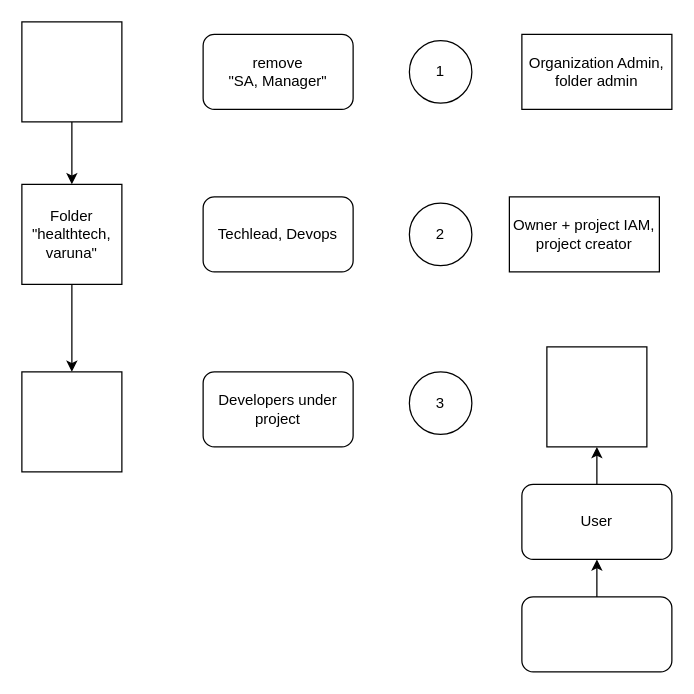
Image size: 694x694. Some labels were removed from this diagram. Each missing label, with the box of its shape:
Custom roles (developer), (support): (521, 596, 672, 672)
IAM: (546, 346, 647, 447)
organization "arv.co.th": (21, 21, 122, 122)
Project "sporthub, beauty, arvic": (21, 371, 122, 472)
